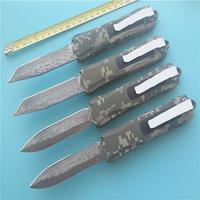knife: (7, 7, 188, 193)
